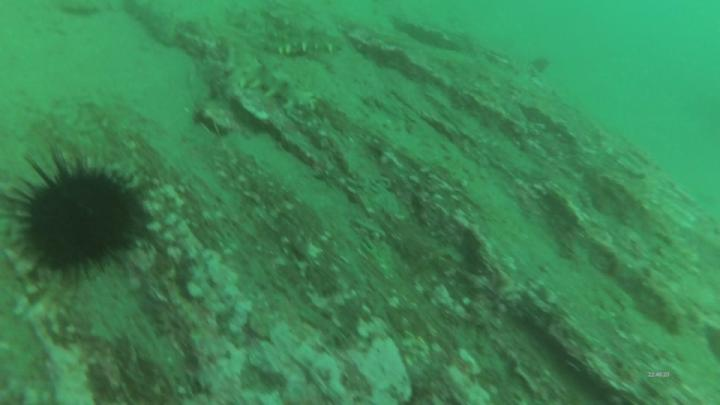echinus: (2, 152, 156, 288)
holothurian: (231, 60, 316, 117), (264, 32, 345, 62)
